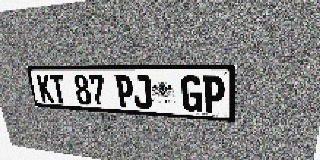7: (88, 75, 107, 106)
8: (73, 74, 92, 105)
G: (181, 75, 202, 112)
J: (132, 75, 152, 109)
K: (36, 74, 54, 103)
P: (203, 76, 225, 114), (115, 75, 134, 108)
T: (49, 74, 68, 104)
